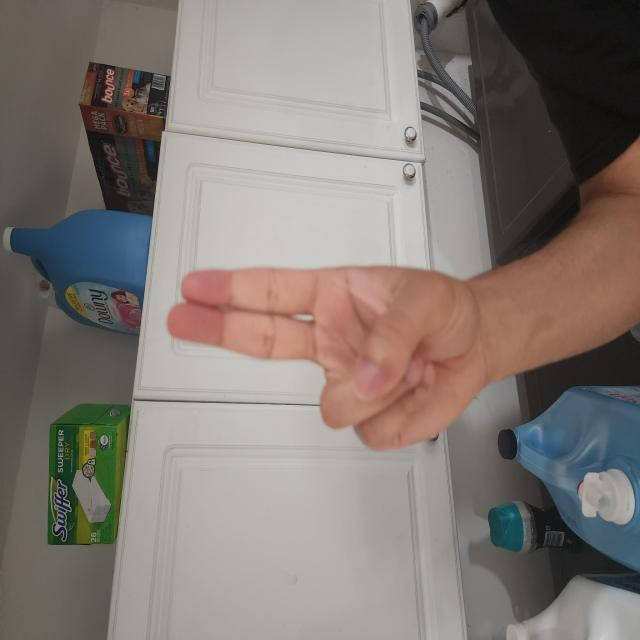U: (131, 214, 287, 640)
